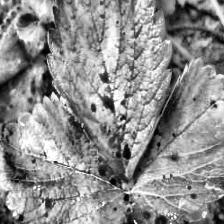Leaf Spot: (45, 0, 173, 185), (0, 89, 129, 224), (125, 55, 224, 224), (0, 52, 49, 126), (0, 6, 29, 90)
